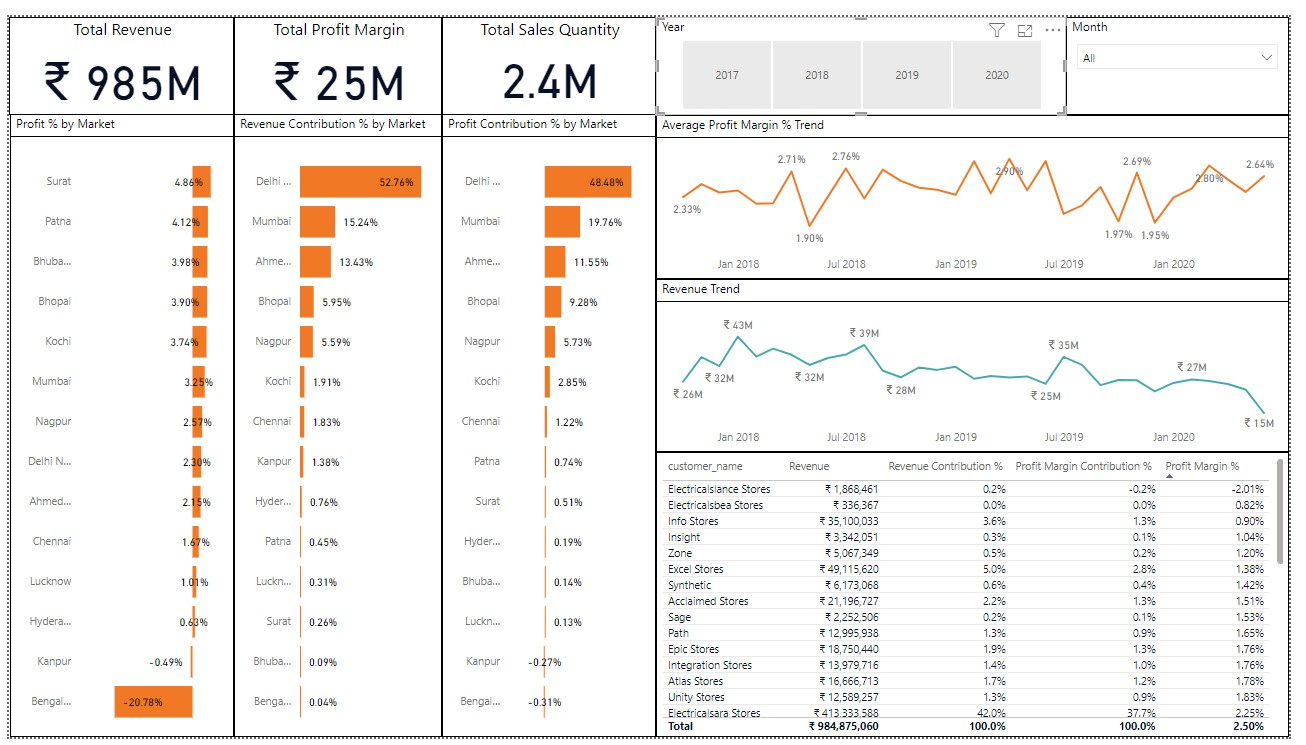

Layout of this report page (visuals, bound fields, positions):
{"tool":"powerbi","page":{"name":"Profit Analysis","canvas":[1280,720],"ordinal":1},"visuals":[{"type":"card","title":"Total Revenue","fields":{"Values":["BaseMeasures.Revenue"]},"box":[0,0,225,98],"z":0},{"type":"card","title":"Total Sales Quantity","fields":{"Values":["BaseMeasures.Sales Qty"]},"box":[433,0,214,98],"z":1000},{"type":"tableEx","title":"Top 5 Customers by Revenue","fields":{"Values":["sales customers.custmer_name","BaseMeasures.Revenue","BaseMeasures.Revenue Contribution %","BaseMeasures.Profit Margin Contribution %","BaseMeasures.Profit Margin %"]},"box":[646.8,434.8,633.2,285],"z":2000},{"type":"barChart","title":"Profit Contribution % by Market","fields":{"Y":["BaseMeasures.Profit Margin Contribution %"],"Category":["sales markets.markets_name"]},"box":[432.8,97.3,214,622.5],"z":3000},{"type":"slicer","title":"Year","fields":{"Values":["sales date.year"]},"box":[647,0,410,98],"z":4000},{"type":"slicer","title":"Month","fields":{"Values":["sales date.month_name"]},"box":[1057,0,223,98],"z":5000},{"type":"barChart","title":"Profit % by Market","fields":{"Category":["sales markets.markets_name"],"Y":["BaseMeasures.Profit Margin %"]},"box":[1,97.3,223.7,622.5],"z":6000},{"type":"lineChart","title":"Average Profit Margin % Trend","fields":{"Category":["sales date.cy_date"],"Y":["Avg(sales transactions.profit_margin_percentage)"]},"box":[646.8,98.2,633.2,163.4],"z":7000},{"type":"lineChart","title":"Revenue Trend","fields":{"Y":["BaseMeasures.Revenue"],"Category":["sales date.cy_date"]},"box":[646.8,261.6,633.2,173.1],"z":8000},{"type":"card","title":"Total Profit Margin","fields":{"Values":["BaseMeasures.Total Profit Margin"]},"box":[225,0,208,98],"z":9000},{"type":"barChart","title":"Revenue Contribution % by Market","fields":{"Category":["sales markets.markets_name"],"Y":["BaseMeasures.Revenue Contribution %"]},"box":[224.7,97.3,208.1,622.5],"z":10000}]}

Visuals, with their boxes in screenshot pixels (x1, y1, x2, y2), scaled from the page's 1280x720 canvas onto the 1306x745 screenshot:
"Total Revenue" card: (0,0,230,101)
"Total Sales Quantity" card: (442,0,660,101)
"Top 5 Customers by Revenue" tableEx: (660,450,1305,744)
"Profit Contribution % by Market" barChart: (442,101,660,744)
"Year" slicer: (660,0,1078,101)
"Month" slicer: (1078,0,1305,101)
"Profit % by Market" barChart: (1,101,229,744)
"Average Profit Margin % Trend" lineChart: (660,102,1305,271)
"Revenue Trend" lineChart: (660,271,1305,450)
"Total Profit Margin" card: (230,0,442,101)
"Revenue Contribution % by Market" barChart: (229,101,442,744)
